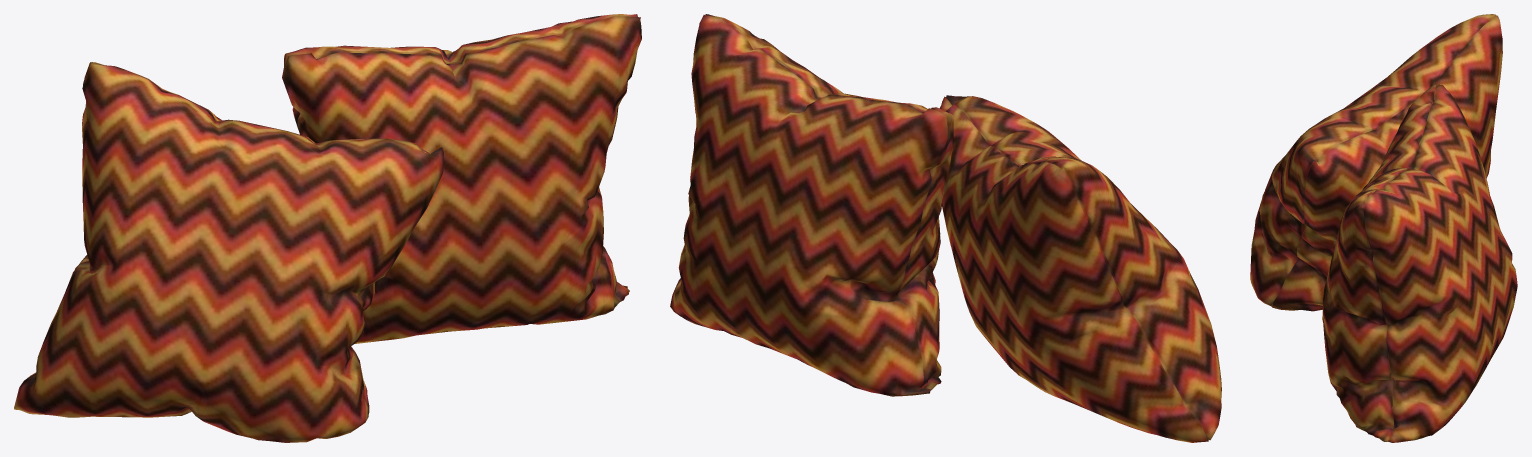
The model's file is throw_pillows_01.glb.
3 views of the same model, side by side, from view 1: azimuth 30°, elevation 25°; view 2: azimuth 150°, elevation 25°; view 3: azimuth 270°, elevation 25° (orthographic). The views are drawn at different scales.
Parts seen in each view (by area): view 1: throw_pillows_01_pillow02; view 2: throw_pillows_01_pillow02; view 3: throw_pillows_01_pillow02.
Boxes of the visible parts, x1,y1,x2,y2 form: throw_pillows_01_pillow02: (14, 14, 641, 442); throw_pillows_01_pillow02: (670, 14, 1221, 442); throw_pillows_01_pillow02: (1250, 14, 1517, 442).
Size of the model in its own units: 0.9401 by 0.4502 by 0.4519.
Materials: 1 (1 with a texture image).
